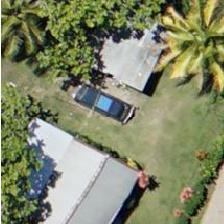coconut_tree: (154, 0, 223, 75), (0, 0, 64, 57)
